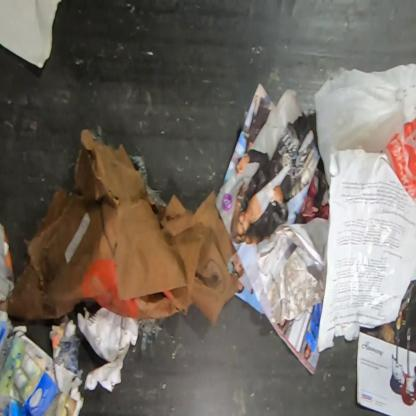soft_plastic: (313, 62, 415, 199)
